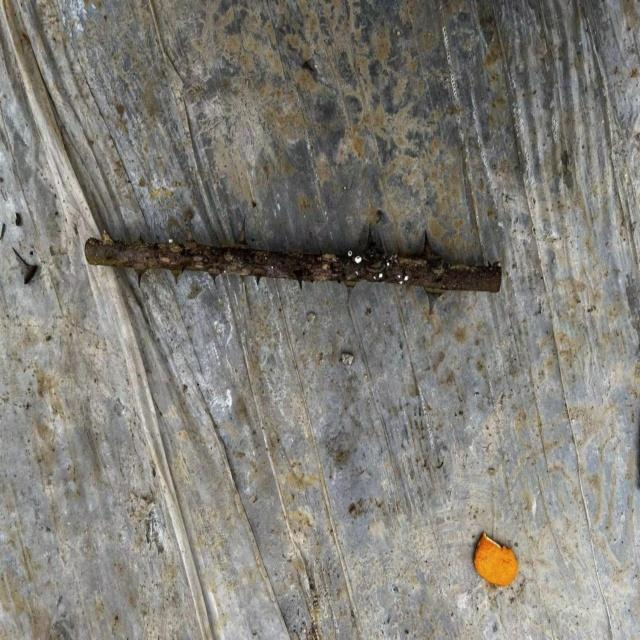branch: (85, 240, 504, 296)
